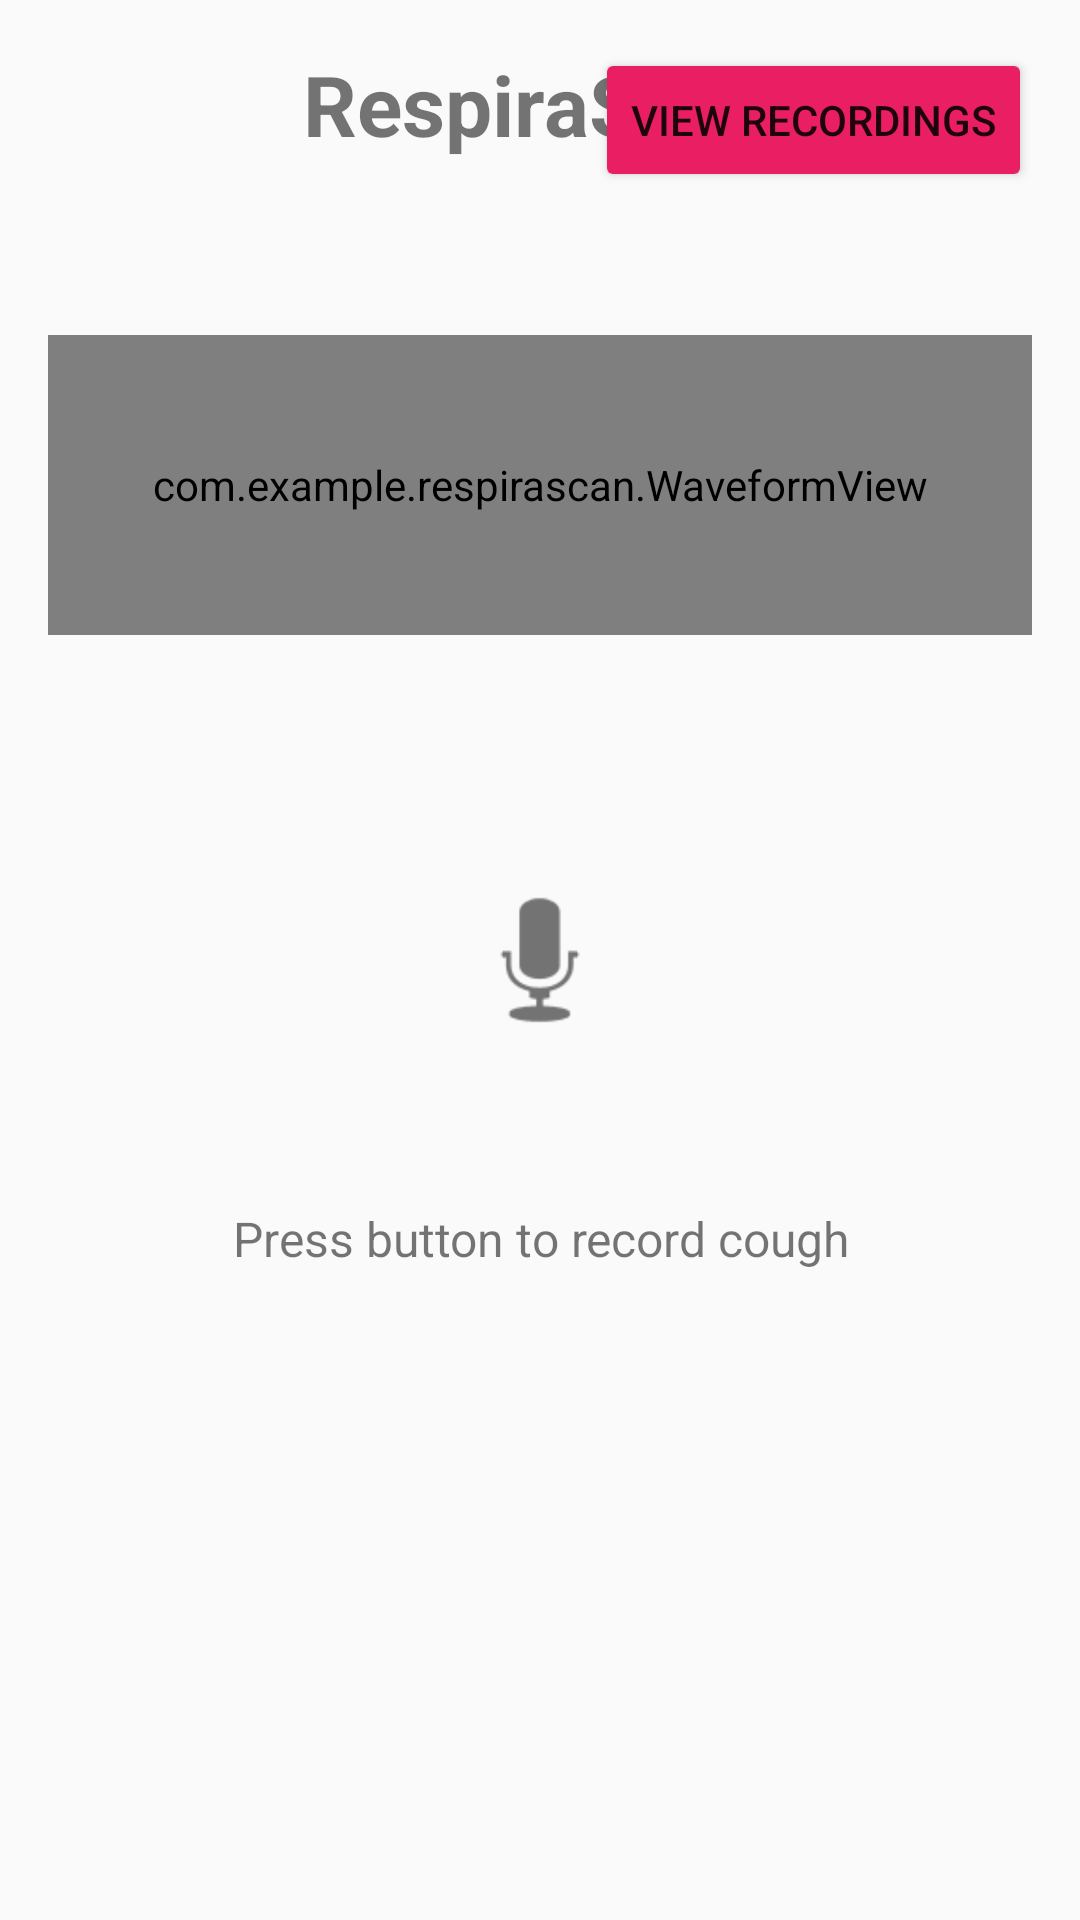

Where to tap for icons on this 1080w x 1920h app screen, as point (x, y):
Microphone: point (540, 960)
